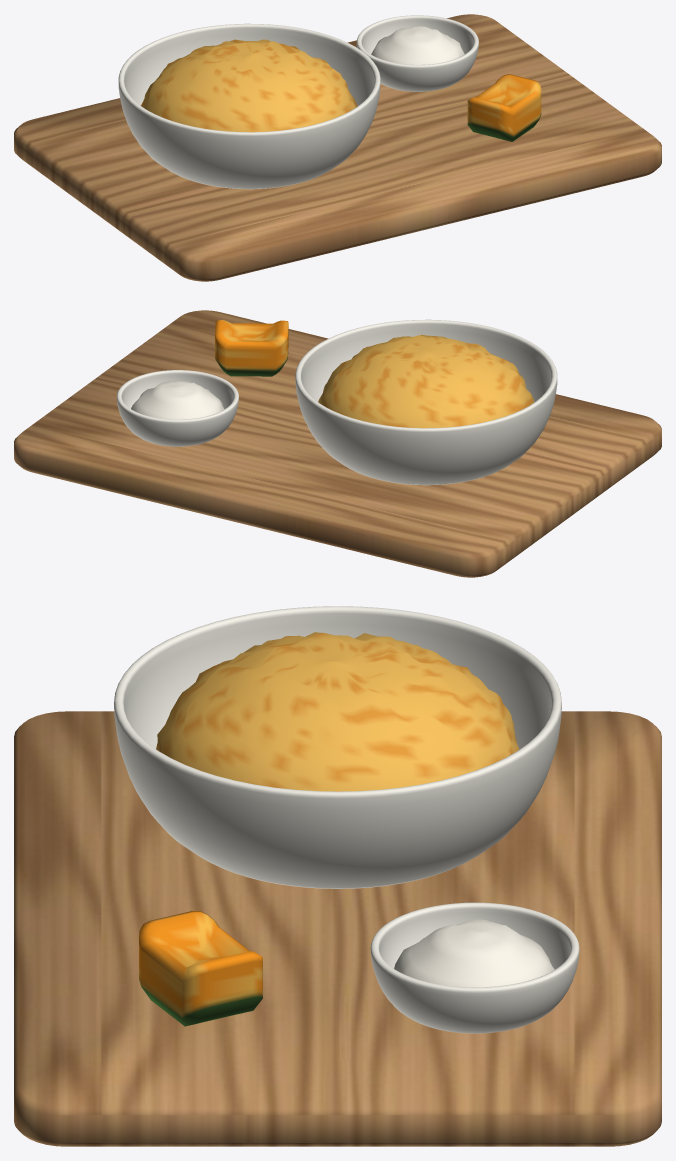
Rendered from paso-2.glb.
3 views of the same model, one above another, from view 1: azimuth 30°, elevation 25°; view 2: azimuth 150°, elevation 25°; view 3: azimuth 270°, elevation 25° (orthographic). The views are drawn at different scales.
Visible parts, largest first — view 1: paso-2-0, paso-2-1, paso-2-2, paso-2-3, paso-2-5, paso-2-4; view 2: paso-2-0, paso-2-1, paso-2-2, paso-2-3, paso-2-5, paso-2-4; view 3: paso-2-0, paso-2-1, paso-2-2, paso-2-3, paso-2-5, paso-2-4.
Part boxes in pixels (x1,y1,x2,y2): paso-2-0: [14, 14, 661, 281]; paso-2-1: [118, 23, 380, 189]; paso-2-2: [141, 39, 357, 132]; paso-2-3: [356, 15, 478, 91]; paso-2-5: [467, 74, 541, 141]; paso-2-4: [371, 26, 464, 64]; paso-2-0: [14, 310, 661, 577]; paso-2-1: [295, 319, 557, 485]; paso-2-2: [318, 334, 534, 428]; paso-2-3: [116, 370, 238, 446]; paso-2-5: [215, 320, 288, 376]; paso-2-4: [131, 381, 224, 419]; paso-2-0: [14, 711, 661, 1146]; paso-2-1: [114, 606, 561, 888]; paso-2-2: [156, 632, 519, 791]; paso-2-3: [370, 902, 579, 1033]; paso-2-5: [139, 911, 262, 1026]; paso-2-4: [394, 919, 554, 987].
Bounding box in the file's own units: 0.38 × 0.0963 × 0.26.
5 materials, 1 textured.
